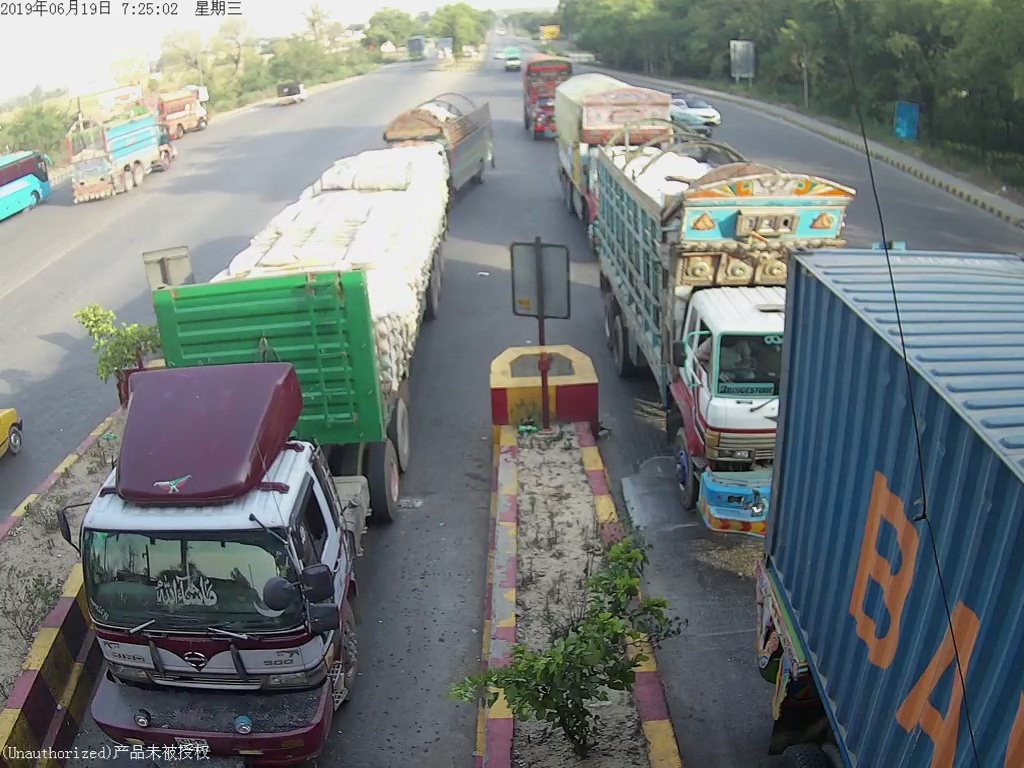Cat-4: (600, 146, 849, 521)
Cat-5: (70, 138, 467, 744)
